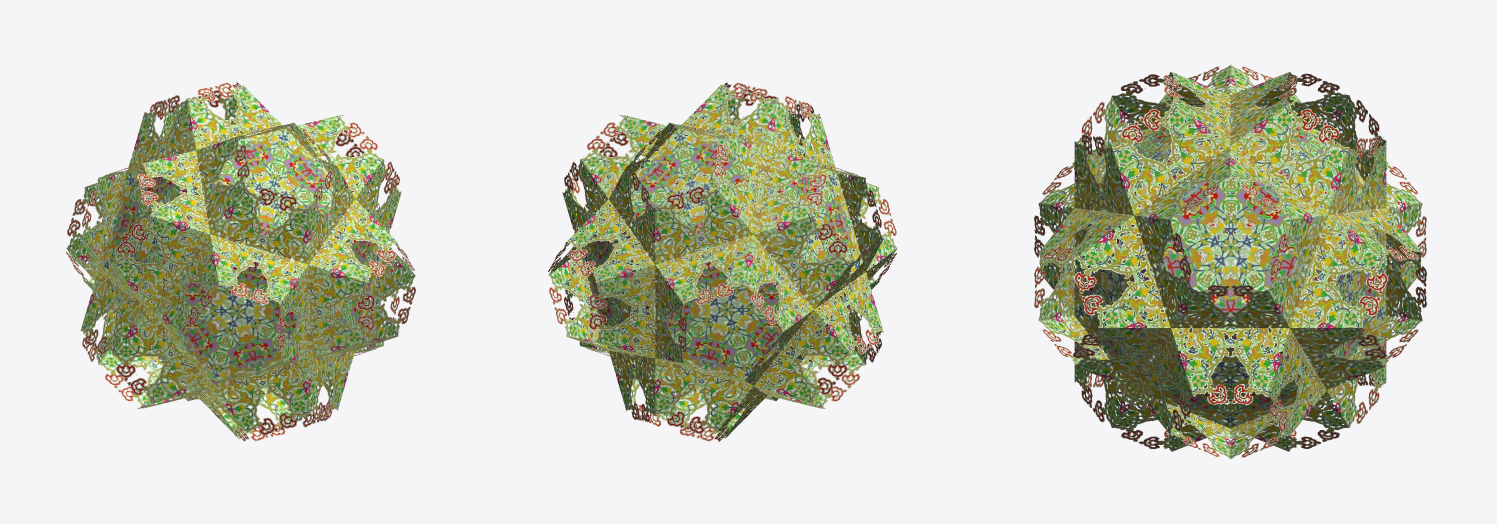
The model's file is SmallStellatedDodecahedron9.obj.
3 renders of one model, left to right at view 1: azimuth 30°, elevation 25°; view 2: azimuth 150°, elevation 25°; view 3: azimuth 270°, elevation 25°, orthographic. The views are drawn at different scales.
Size of the model in its own units: 1 by 1 by 1.
1 material, 1 textured.
